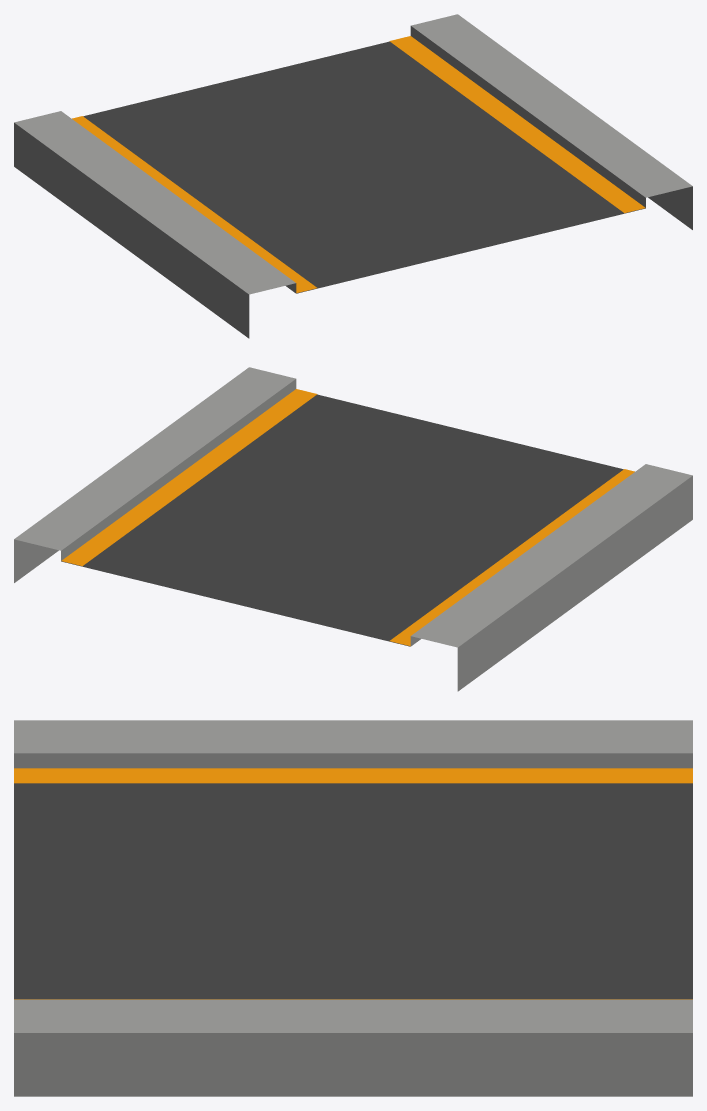
The model's file is Road_A_14.fbx.
3 renders of one model, top to bottom at view 1: azimuth 30°, elevation 25°; view 2: azimuth 150°, elevation 25°; view 3: azimuth 270°, elevation 25°, orthographic. The views are drawn at different scales.
Parts seen in each view (by area): view 1: Road_A_14; view 2: Road_A_14; view 3: Road_A_14.
Part boxes in pixels (<box>): Road_A_14: <box>14,14,692,338</box>; Road_A_14: <box>14,367,692,691</box>; Road_A_14: <box>14,720,692,1096</box>.
Bounding box in the file's own units: 436 × 41.48 × 400.
